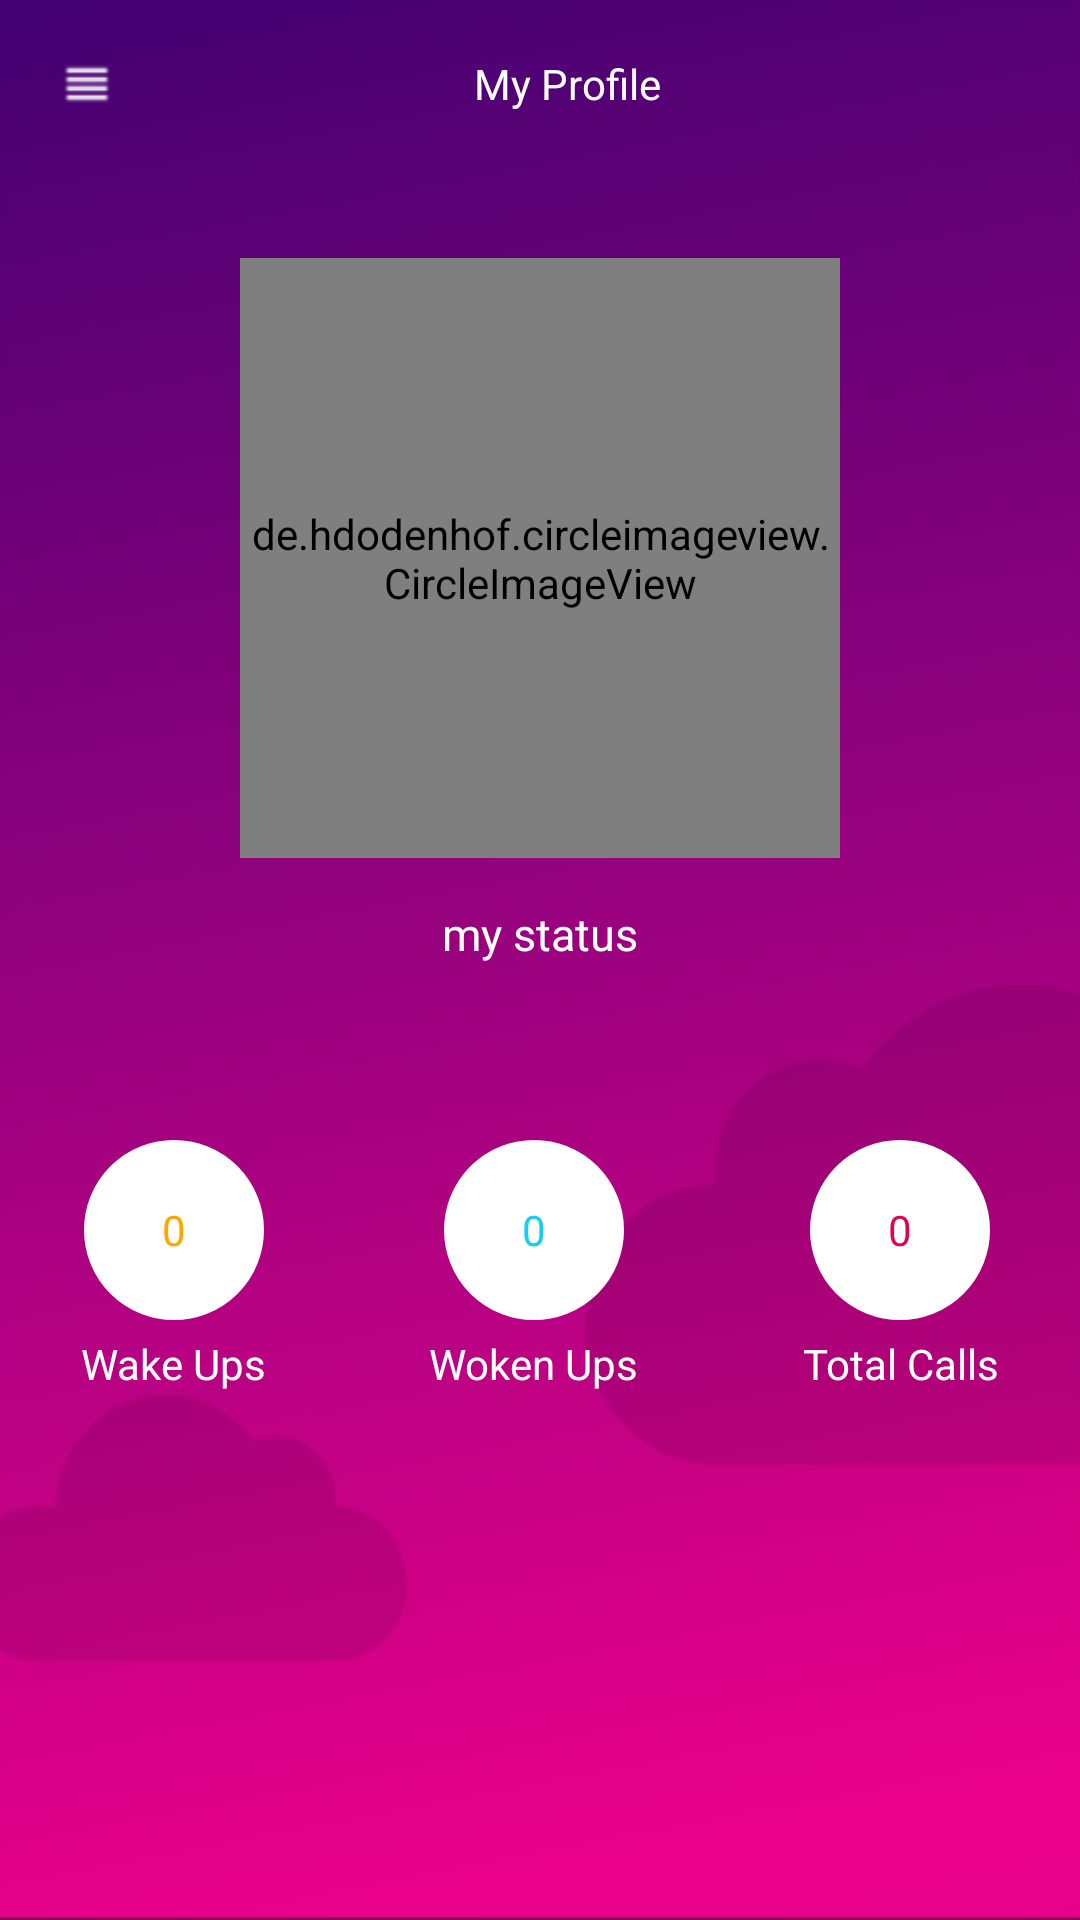

Icons on this 1080w x 1920h Android screen, each with the point to tap as point (x, y):
reorder: point (87, 84)
